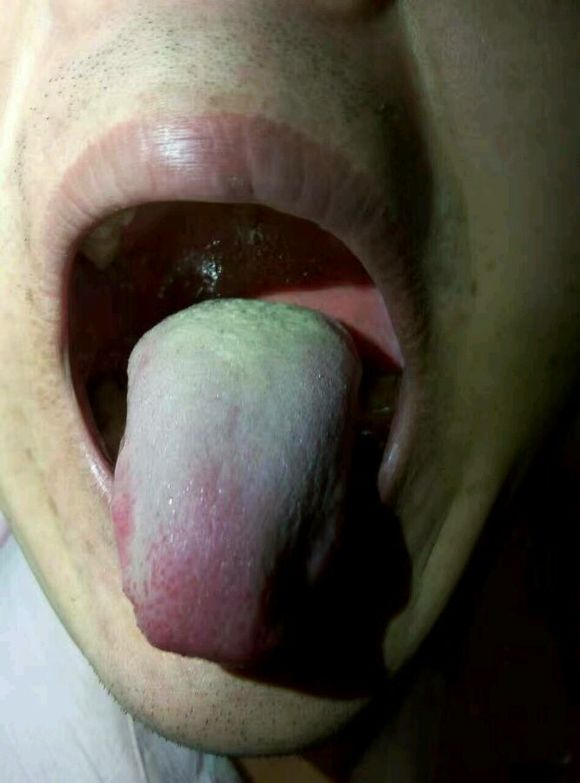huangtaishe: (113, 298, 361, 662)
